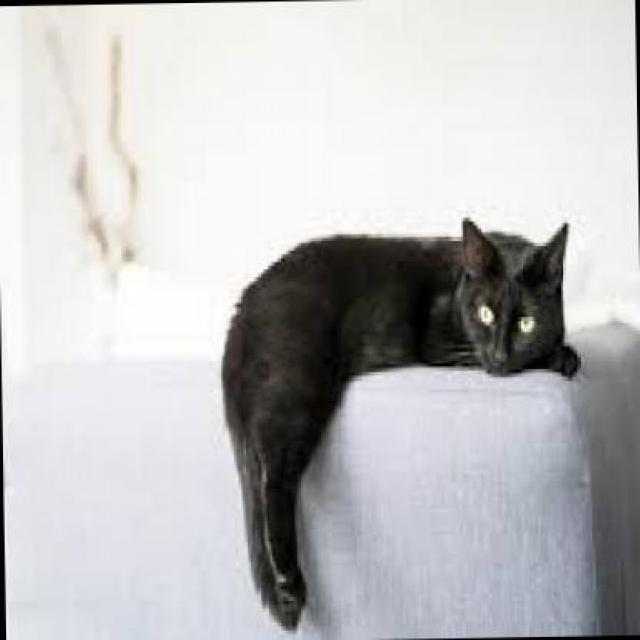animals: (214, 208, 588, 630)
